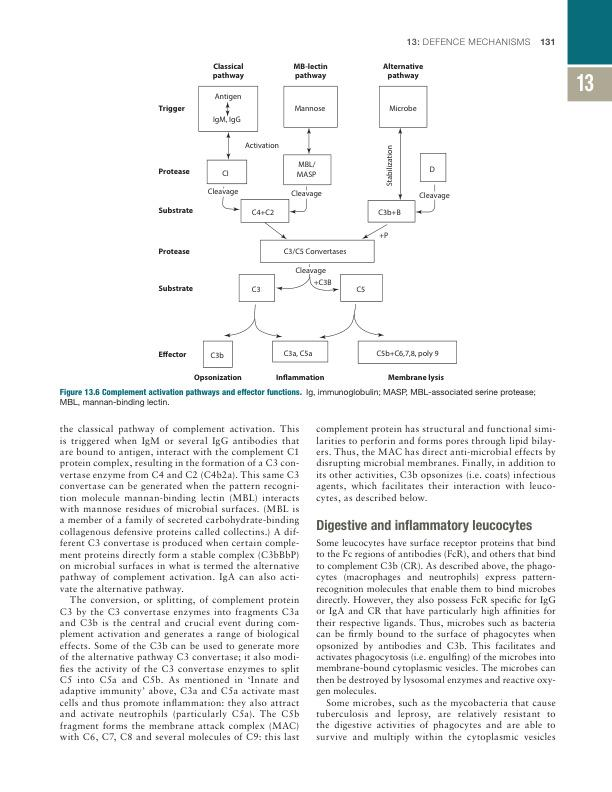caption: (59, 387, 536, 408)
header: (405, 37, 532, 47)
image: (147, 52, 482, 386)
sub-section-heading: (316, 518, 533, 533)
text: (58, 423, 300, 743), (315, 537, 557, 744), (315, 423, 557, 505)
